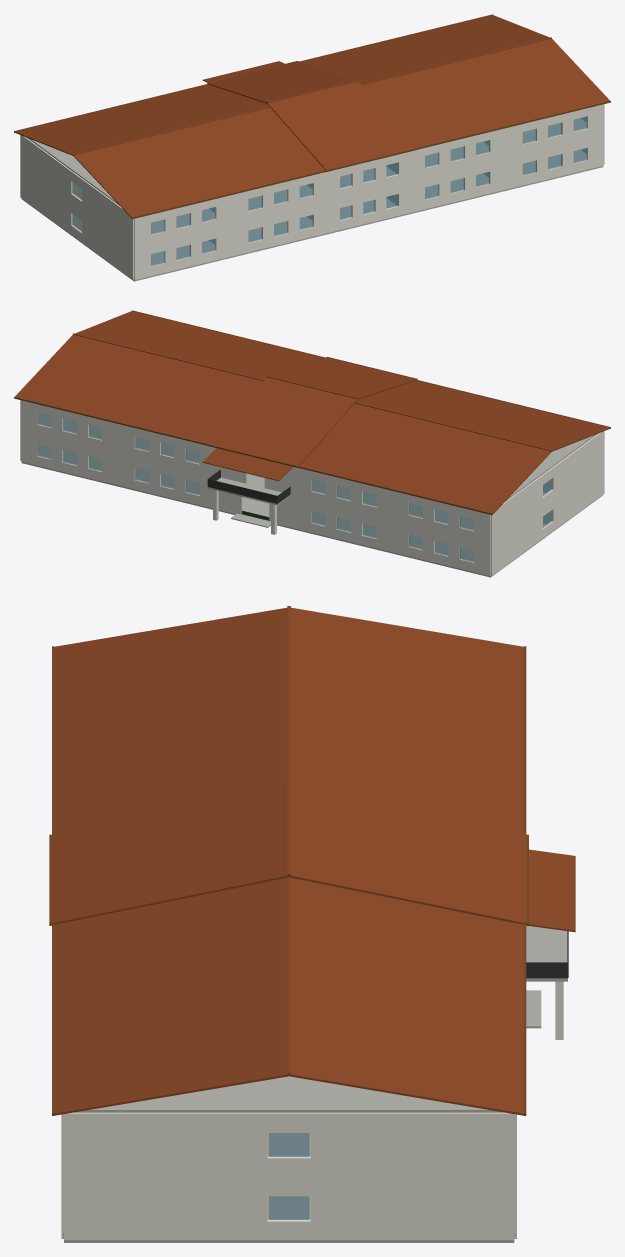
Rendered from Bloco_Instrucao_3D.obj.
The picture shows the model from 3 angles, top to bottom: view 1: azimuth 30°, elevation 25°; view 2: azimuth 150°, elevation 25°; view 3: azimuth 270°, elevation 25°; orthographic projection. The views are drawn at different scales.
Parts seen in each view (by area): view 1: Roof_LeftWing_BackSlope, Roof_RightWing_BackSlope, Roof_Central_BackSlope, Roof_LeftWing_FrontSlope, Roof_RightWing_FrontSlope, Roof_Central_FrontSlope, Ground_Slab, F2_West_BackSide, F1_West_BackSide, F2_West_FrontSide, F1_West_FrontSide, F1_Classroom_02_Exterior_Top (+27 smaller); view 2: Roof_LeftWing_FrontSlope, Roof_RightWing_FrontSlope, Roof_Central_FrontSlope, Roof_LeftWing_BackSlope, Roof_RightWing_BackSlope, Roof_Central_BackSlope, Ground_Slab, F2_West_FrontSide, F1_West_FrontSide, F2_West_BackSide, F1_West_BackSide, Balcony_Canopy (+28 smaller); view 3: Roof_RightWing_BackSlope, Roof_RightWing_FrontSlope, Roof_LeftWing_BackSlope, Roof_LeftWing_FrontSlope, Roof_Central_BackSlope, Roof_Central_FrontSlope, F2_East_BackSide, F2_East_FrontSide, F1_East_FrontSide, F1_East_BackSide, Ceiling_RightWing, Balcony_Canopy (+9 smaller).
Part boxes in pixels (bbox=[...]): Roof_LeftWing_BackSlope: bbox=[73, 107, 325, 218]; Roof_RightWing_BackSlope: bbox=[362, 39, 609, 147]; Roof_Central_BackSlope: bbox=[267, 81, 416, 170]; Roof_LeftWing_FrontSlope: bbox=[14, 84, 268, 155]; Roof_RightWing_FrontSlope: bbox=[301, 15, 549, 83]; Roof_Central_FrontSlope: bbox=[207, 61, 355, 103]; Ground_Slab: bbox=[22, 150, 603, 281]; F2_West_BackSide: bbox=[87, 183, 134, 248]; F1_West_BackSide: bbox=[87, 215, 134, 279]; F2_West_FrontSide: bbox=[20, 135, 66, 198]; F1_West_FrontSide: bbox=[20, 166, 65, 230]; F1_Classroom_02_Exterior_Top: bbox=[134, 225, 232, 257]; Roof_LeftWing_FrontSlope: bbox=[299, 403, 551, 514]; Roof_RightWing_FrontSlope: bbox=[15, 335, 262, 443]; Roof_Central_FrontSlope: bbox=[208, 377, 357, 466]; Roof_LeftWing_BackSlope: bbox=[356, 380, 610, 451]; Roof_RightWing_BackSlope: bbox=[75, 311, 323, 379]; Roof_Central_BackSlope: bbox=[269, 357, 417, 399]; Ground_Slab: bbox=[21, 446, 602, 577]; F2_West_FrontSide: bbox=[490, 479, 537, 544]; F1_West_FrontSide: bbox=[490, 511, 537, 575]; F2_West_BackSide: bbox=[558, 431, 604, 494]; F1_West_BackSide: bbox=[559, 462, 604, 526]; Balcony_Canopy: bbox=[202, 448, 292, 481]; Roof_RightWing_BackSlope: bbox=[54, 878, 289, 1115]; Roof_RightWing_FrontSlope: bbox=[289, 878, 523, 1115]; Roof_LeftWing_BackSlope: bbox=[54, 607, 287, 834]; Roof_LeftWing_FrontSlope: bbox=[291, 607, 523, 834]; Roof_Central_BackSlope: bbox=[50, 787, 289, 925]; Roof_Central_FrontSlope: bbox=[289, 787, 527, 925]; F2_East_BackSide: bbox=[64, 1112, 246, 1176]; F2_East_FrontSide: bbox=[332, 1112, 514, 1176]; F1_East_FrontSide: bbox=[332, 1177, 514, 1239]; F1_East_BackSide: bbox=[64, 1177, 246, 1239]; Ceiling_RightWing: bbox=[74, 1076, 503, 1112]; Balcony_Canopy: bbox=[529, 849, 575, 932].
Bounding box in the file's own units: 206 × 37.85 × 98.1.
